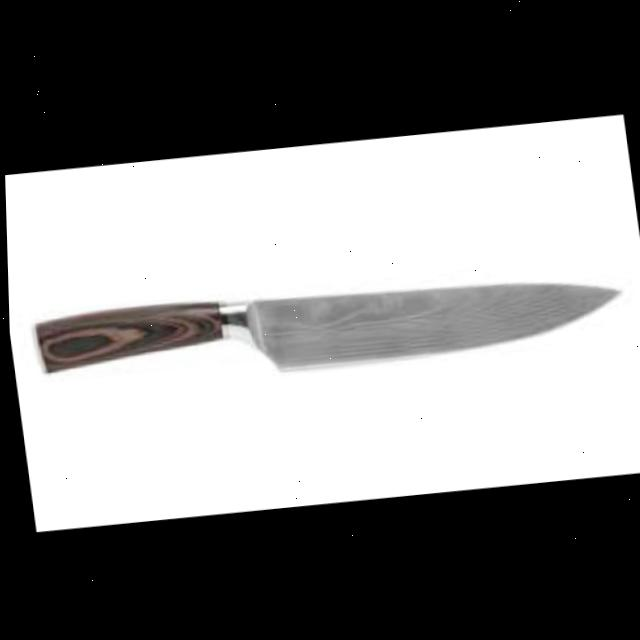knife: (28, 250, 627, 398)
